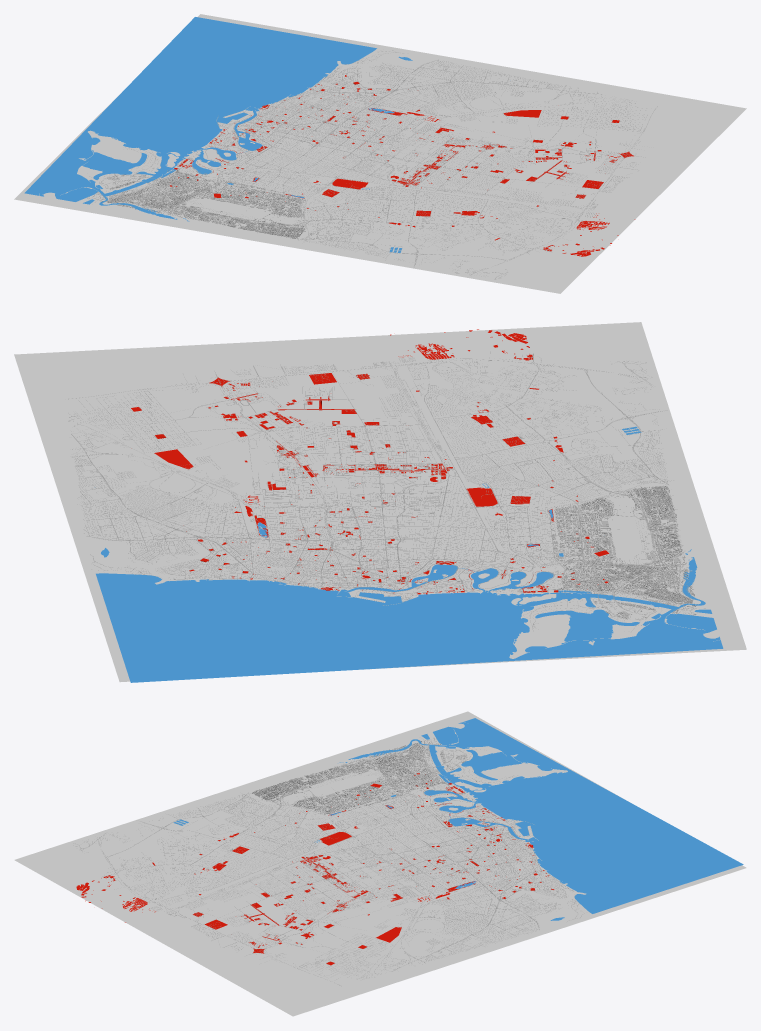
File: sharjah_ground_block_1.glb
3 renders of one model, top to bottom at view 1: azimuth 30°, elevation 25°; view 2: azimuth 150°, elevation 25°; view 3: azimuth 270°, elevation 25°, orthographic. The views are drawn at different scales.
Parts seen in each view (by area): view 1: ground, water, roads, buildings_block_1, green_zone; view 2: ground, water, roads, buildings_block_1, green_zone; view 3: ground, water, roads, buildings_block_1, green_zone.
Part boxes in pixels (x1,y1,x2,y2): ground: (14, 14, 746, 293); water: (24, 17, 412, 252); roads: (89, 50, 657, 279); buildings_block_1: (87, 160, 305, 238); green_zone: (170, 75, 635, 256); ground: (14, 322, 746, 682); water: (96, 426, 723, 682); roads: (68, 351, 705, 631); buildings_block_1: (544, 486, 696, 631); green_zone: (131, 329, 608, 594); ground: (14, 711, 746, 1016); water: (173, 718, 743, 920); roads: (73, 739, 584, 986); buildings_block_1: (252, 737, 476, 814); green_zone: (76, 773, 554, 965).
Bounding box in the file's own units: 1462 × 11.5 × 1484.
